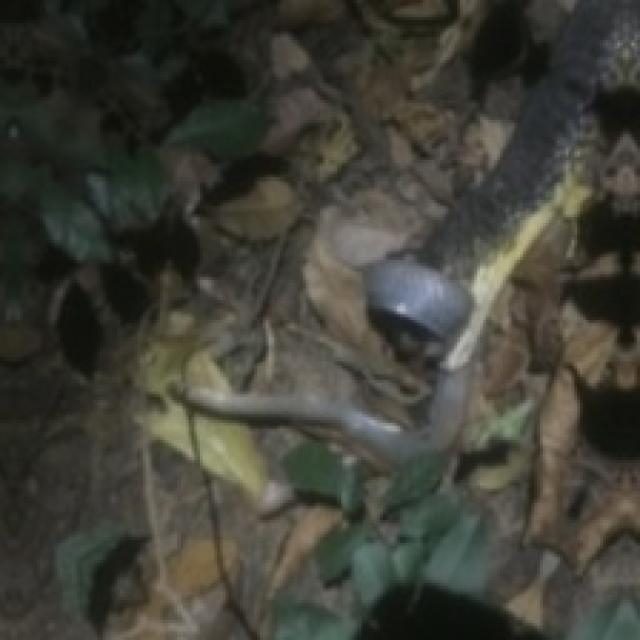king cobra: (143, 0, 637, 486)
